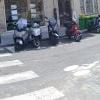crosswalks: (0, 48, 64, 98)
